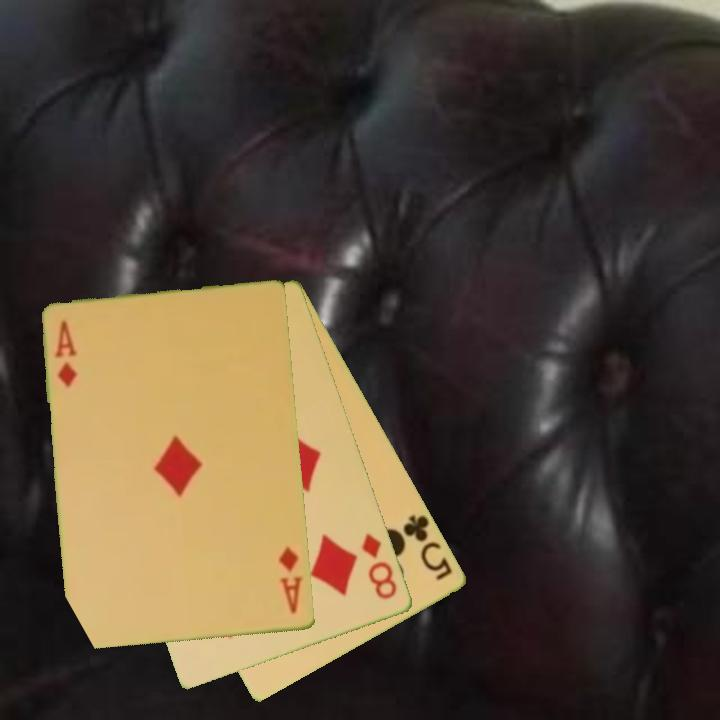5c: (399, 511, 456, 584)
8d: (359, 530, 401, 603)
Ad: (275, 544, 306, 617), (52, 317, 81, 390)
